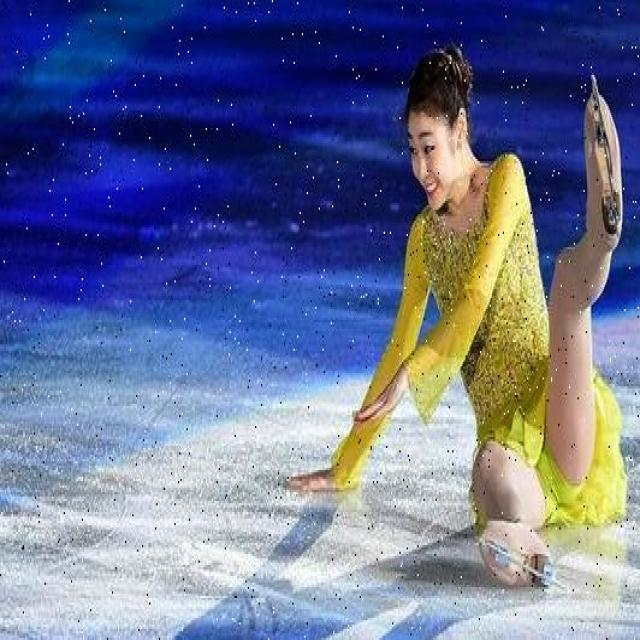fall: (386, 53, 626, 576)
